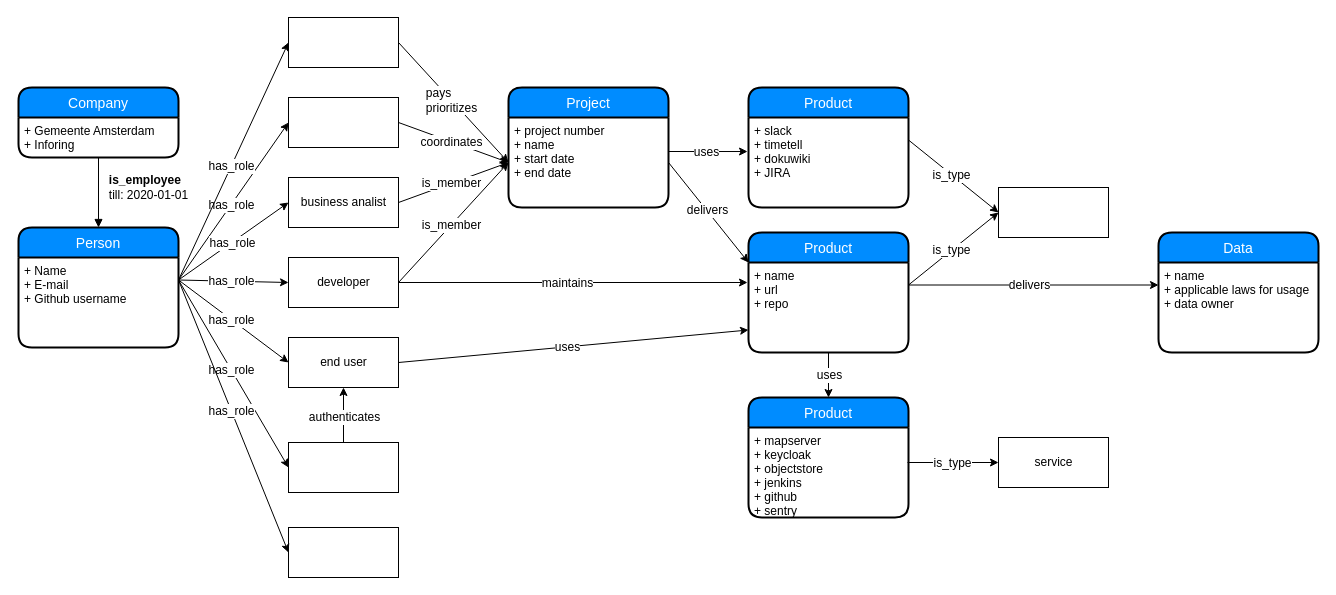
The diagram is 1336 pixels wide and 595 high, and some of its shapes have lost their labels. Each missing label, with the centre of its shape:
"application" goes at [1053,212].
"authenticator" goes at [343,467].
"Client" goes at [343,42].
"datasource owner" goes at [343,552].
"project leader" goes at [343,122].
